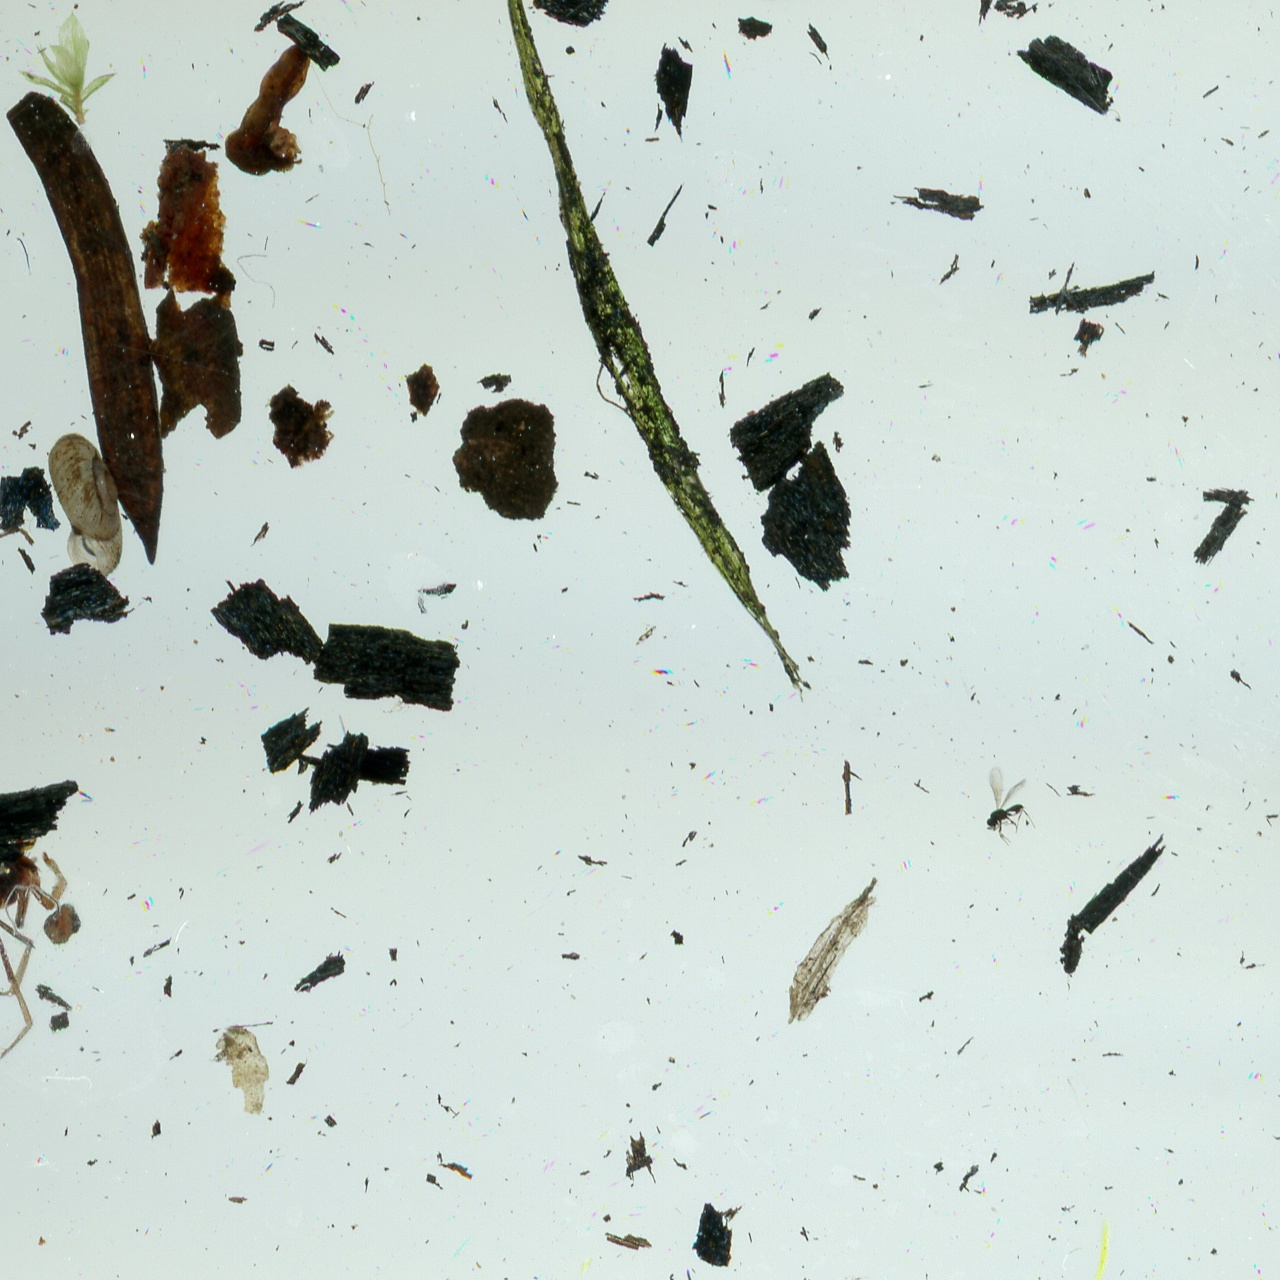arthropod: (0, 831, 69, 1085), (43, 431, 128, 580), (985, 763, 1037, 849), (647, 1258, 727, 1280)
